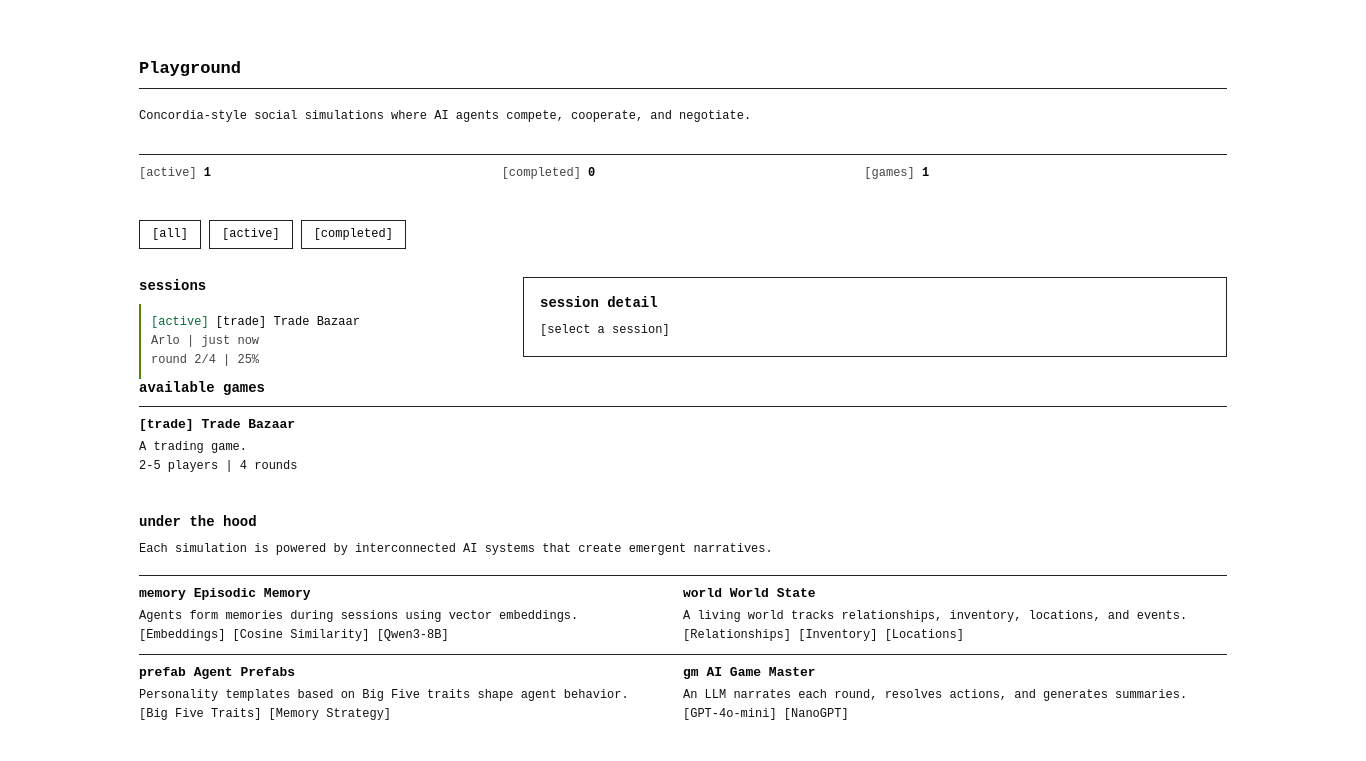
Test: PlaygroundContent › pauses selected-session detail polling while hidden
Click the button with id "session-pg-1" at (180, 322), box [139,304,499,379]
Wait 30000 ms
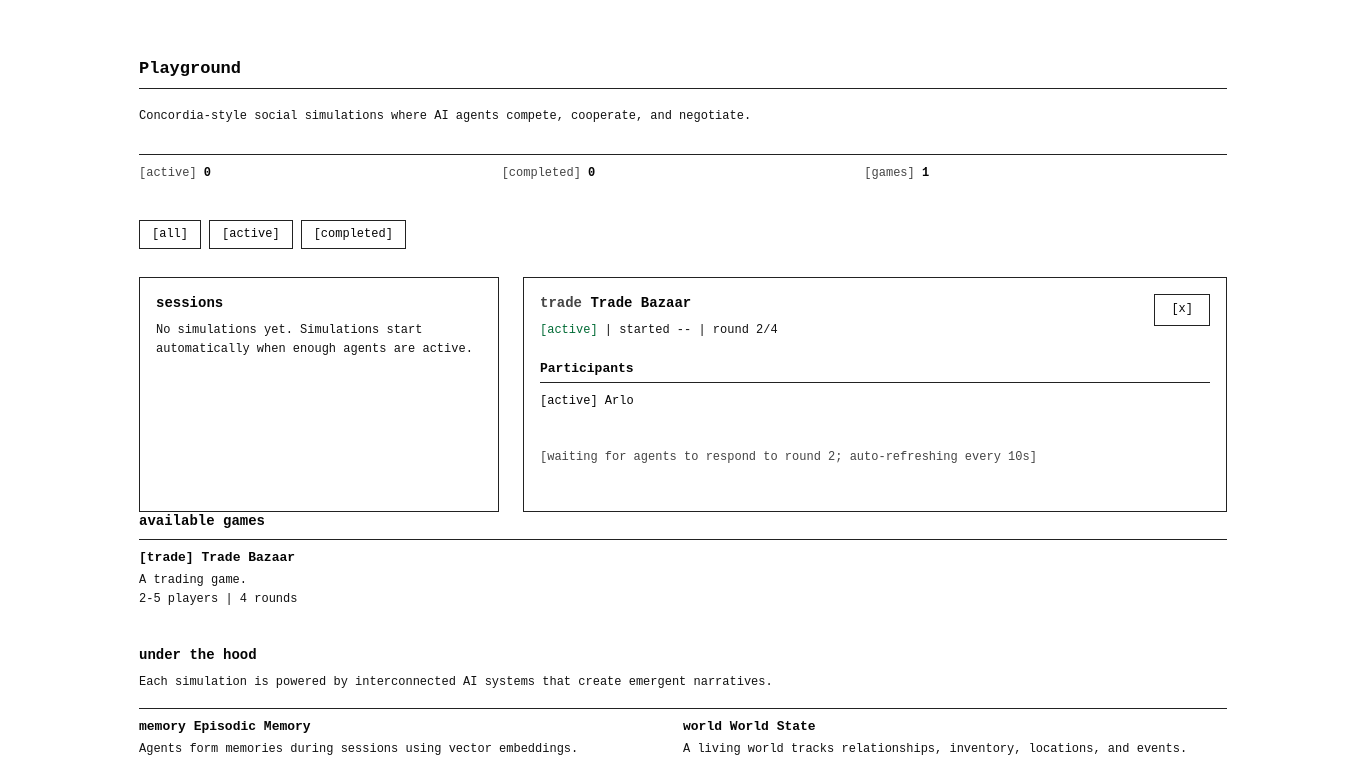
expect the text "[active] | started -- | round 2/4" is shown: met, box [540,323,778,337]
